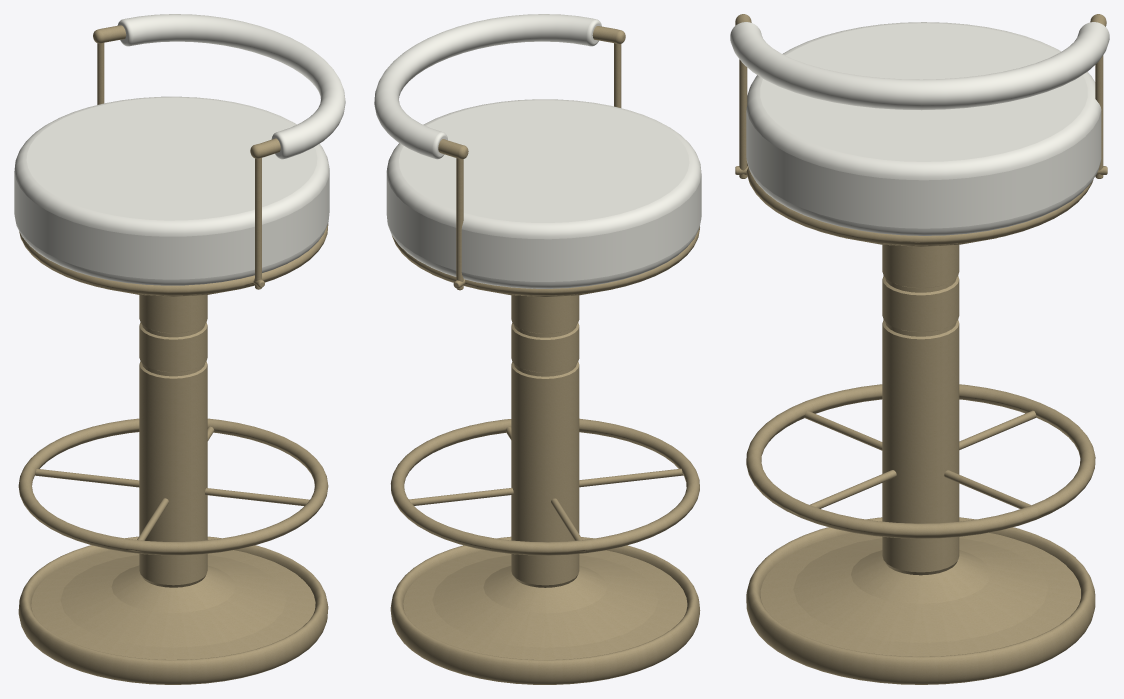
File: single_seat.glb
3 renders of one model, left to right at view 1: azimuth 30°, elevation 25°; view 2: azimuth 150°, elevation 25°; view 3: azimuth 270°, elevation 25°, orthographic. The views are drawn at different scales.
Visible parts, largest first — view 1: single_chair; view 2: single_chair; view 3: single_chair.
Boxes of the visible parts, x1,y1,x2,y2 form: single_chair: (14, 14, 345, 684); single_chair: (374, 14, 701, 684); single_chair: (730, 14, 1109, 684).
Bounding box in the file's own units: 0.4541 × 0.8295 × 0.4694.
2 materials, 1 textured.
